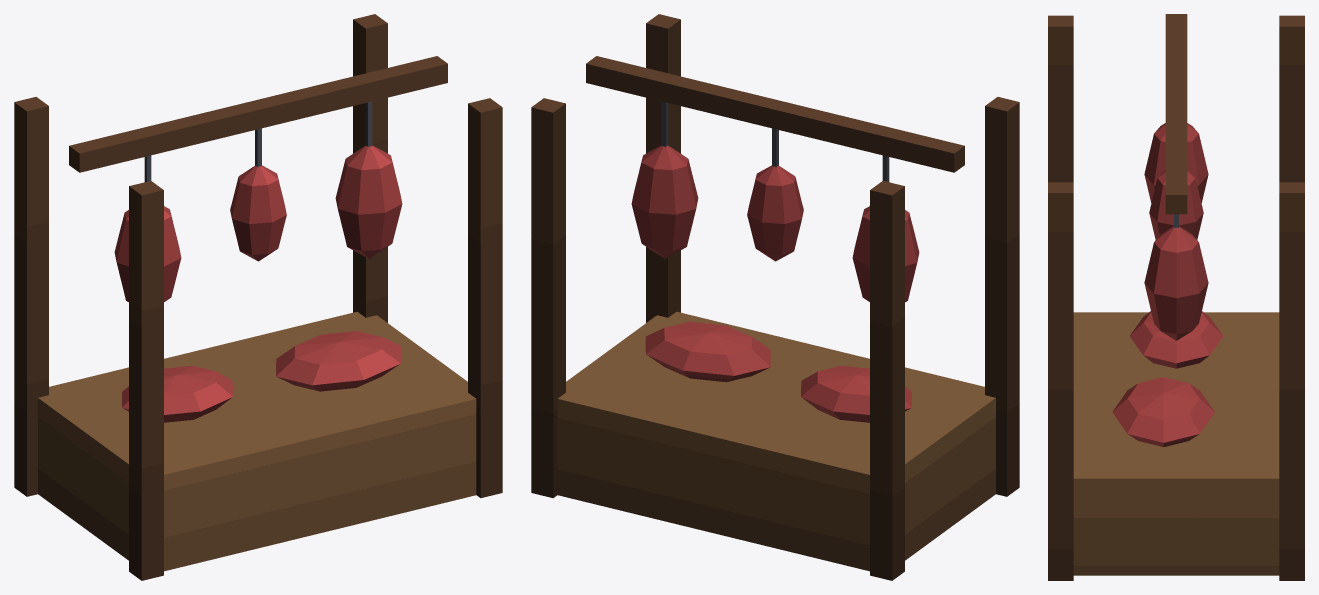
File: raw_food_storage.glb
3 renders of one model, left to right at view 1: azimuth 30°, elevation 25°; view 2: azimuth 150°, elevation 25°; view 3: azimuth 270°, elevation 25°, orthographic.
Bounding box in the file's own units: 1 × 1 × 0.6.
1 material, 1 textured.
